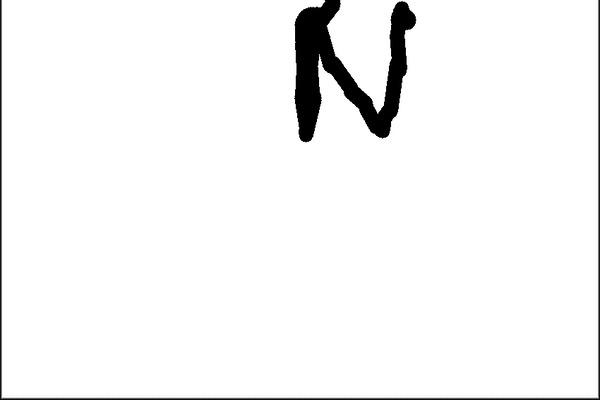N: (288, 3, 420, 146)
